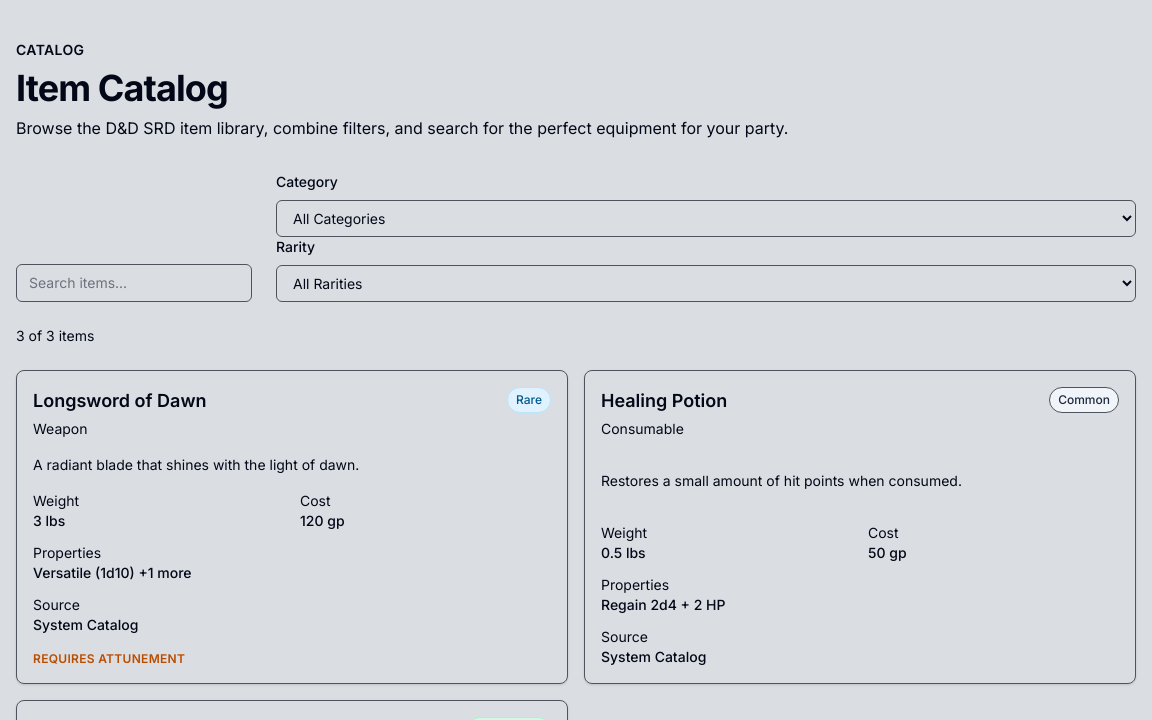
Scenario: ItemsPage integration - US1 list filtering and search › filters items by category when filter changes
This screenshot has width=1152, height=720.
Expected: the heading "Item Catalog" is shown, [16,66,228,110]
Step 1. Select "Weapon" in the dropdown labelled "Category" → (706, 218), box [276,200,1136,237]
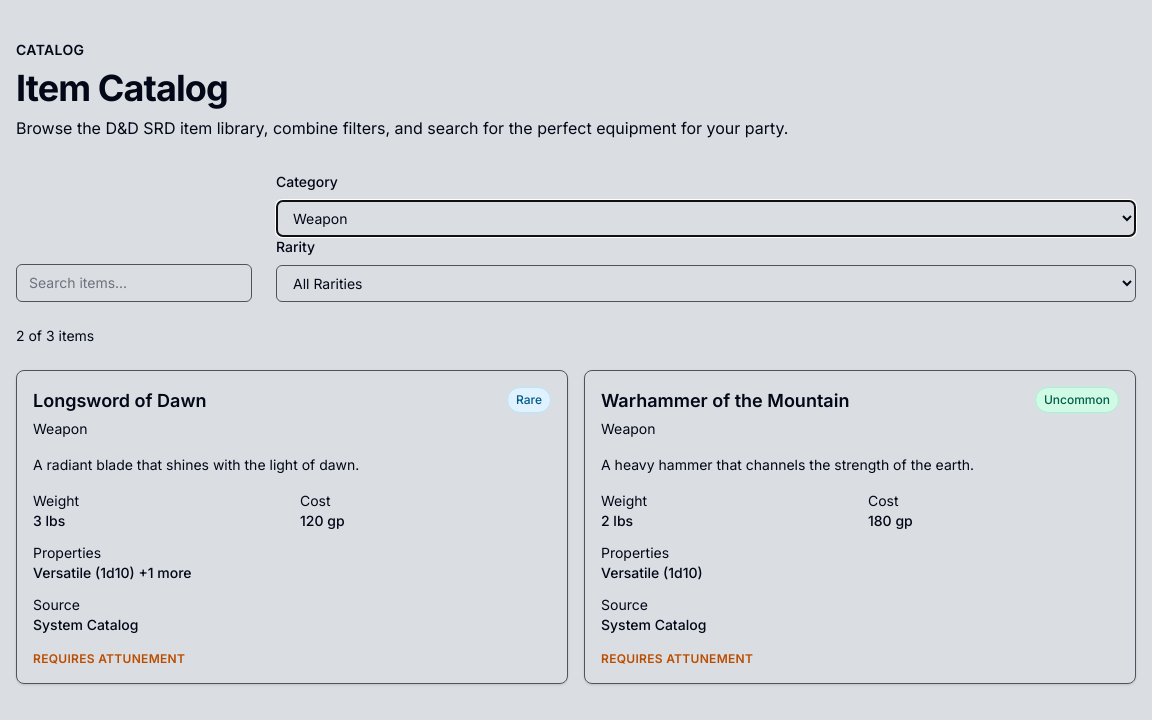
Expected: the heading "Longsword of Dawn" is shown, [33,387,207,415]
Expected: the link "Healing Potion" is gone
